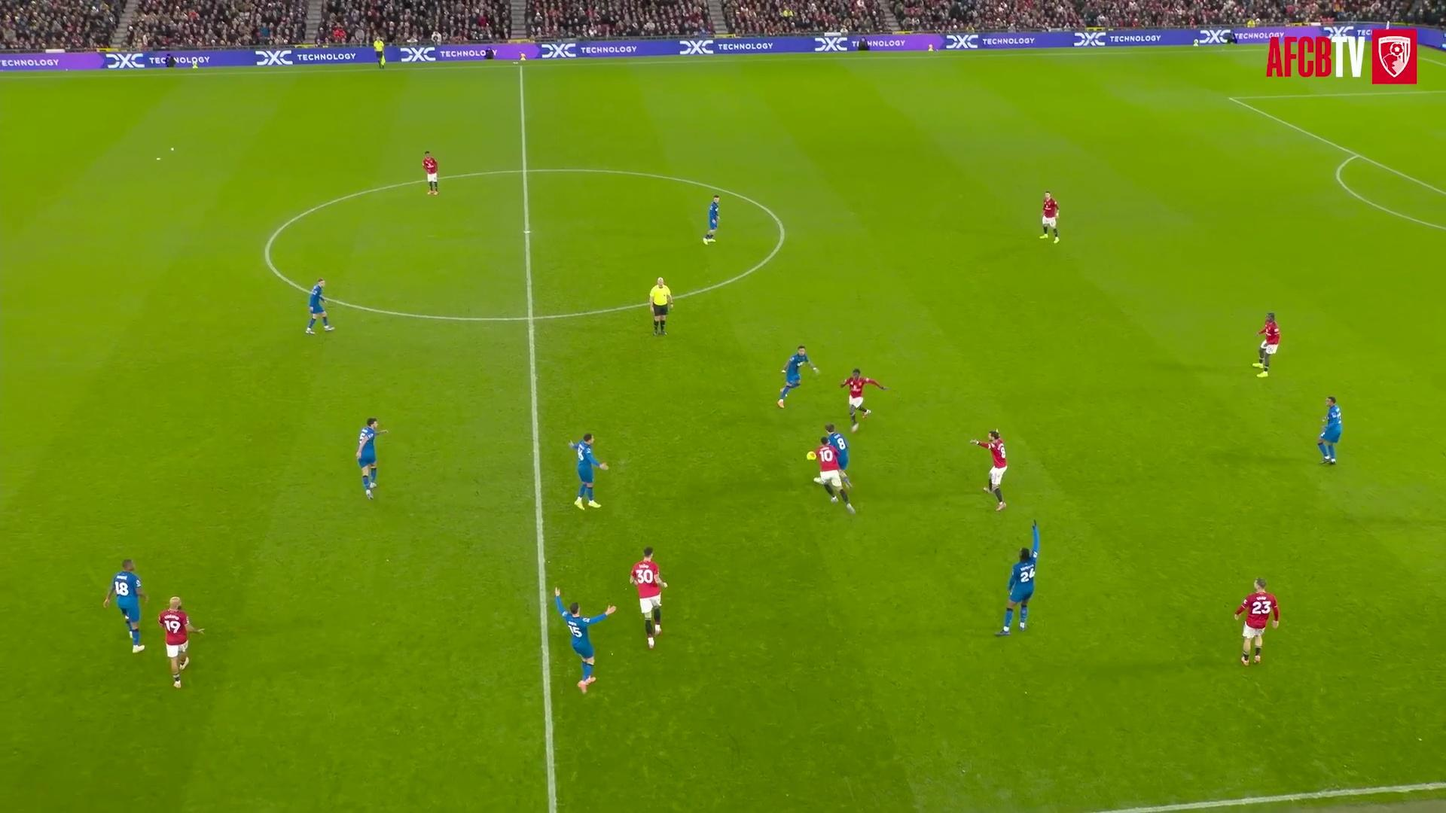football: (807, 446, 817, 471)
player: (555, 588, 616, 693), (102, 559, 148, 652), (158, 596, 203, 688), (1234, 580, 1279, 665), (807, 437, 855, 513), (630, 547, 666, 648), (996, 549, 1036, 636), (569, 434, 607, 510), (840, 369, 886, 431), (971, 431, 1006, 510), (777, 345, 818, 407), (356, 418, 386, 498), (1252, 312, 1280, 376), (825, 422, 850, 487), (1317, 397, 1341, 464), (306, 279, 334, 334), (1040, 190, 1058, 242), (703, 195, 718, 244), (423, 151, 438, 195)
referee: (648, 277, 672, 334), (373, 37, 385, 68)
